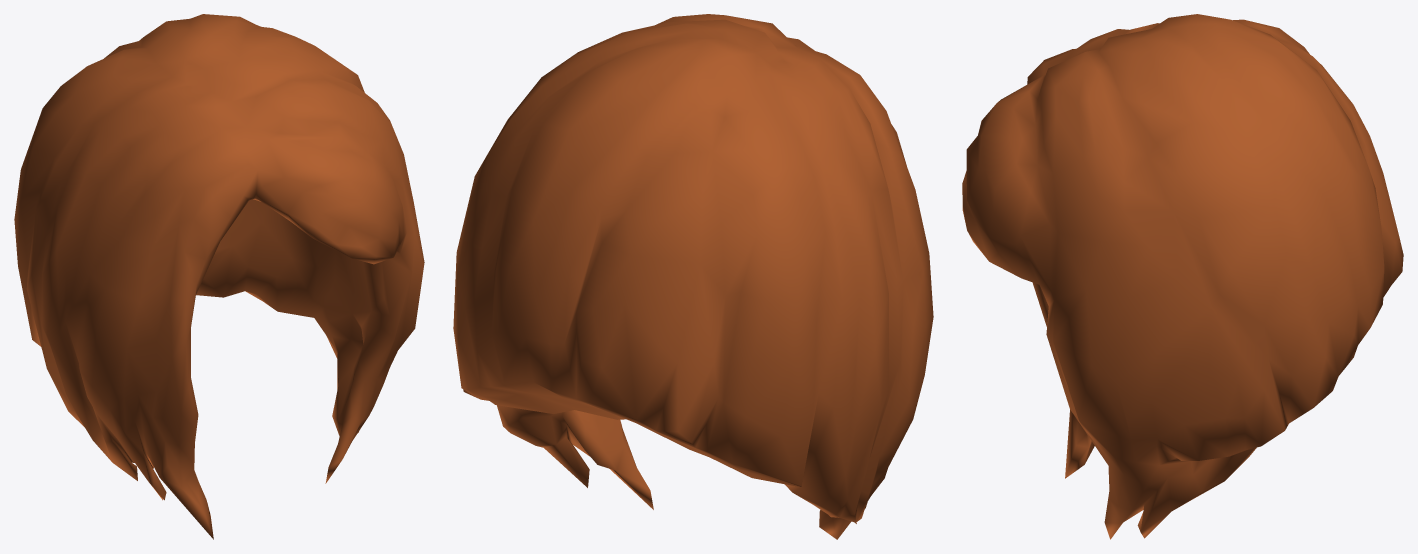
The picture shows the model from 3 angles, left to right: view 1: azimuth 30°, elevation 25°; view 2: azimuth 150°, elevation 25°; view 3: azimuth 270°, elevation 25°; orthographic projection. The views are drawn at different scales.
Parts seen in each view (by area): view 1: Wolf3D_Hair.077; view 2: Wolf3D_Hair.077; view 3: Wolf3D_Hair.077.
Boxes of the visible parts, x1,y1,x2,y2 form: Wolf3D_Hair.077: (14, 14, 424, 539); Wolf3D_Hair.077: (453, 14, 933, 539); Wolf3D_Hair.077: (962, 14, 1403, 539).
Bounding box in the file's own units: 0.2287 × 0.2897 × 0.2404.
Materials: 1 (1 with a texture image).
